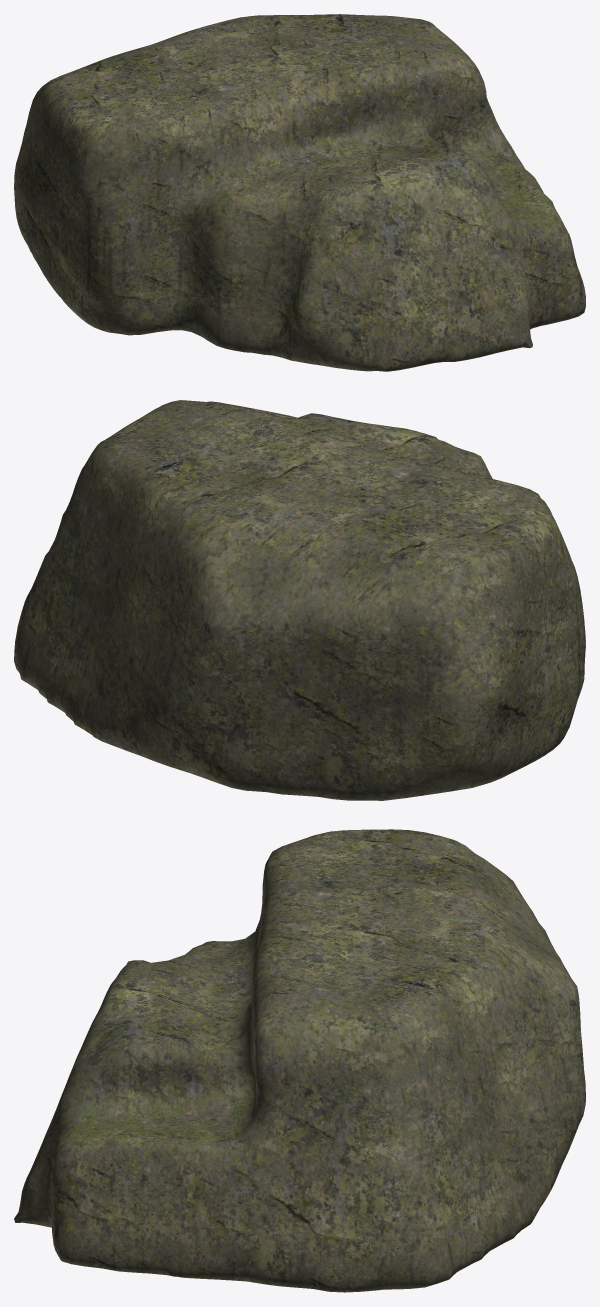
The model's file is rock_c.glb.
3 views of the same model, one above another, from view 1: azimuth 30°, elevation 25°; view 2: azimuth 150°, elevation 25°; view 3: azimuth 270°, elevation 25° (orthographic). The views are drawn at different scales.
Parts seen in each view (by area): view 1: rock_c; view 2: rock_c; view 3: rock_c.
Part boxes in pixels (box(x1,y1,x2,y2)): rock_c: box(14, 14, 585, 371); rock_c: box(14, 400, 585, 800); rock_c: box(14, 829, 585, 1292).
Size of the model in its own units: 10.85 by 5.12 by 10.59.
1 material, 1 textured.
